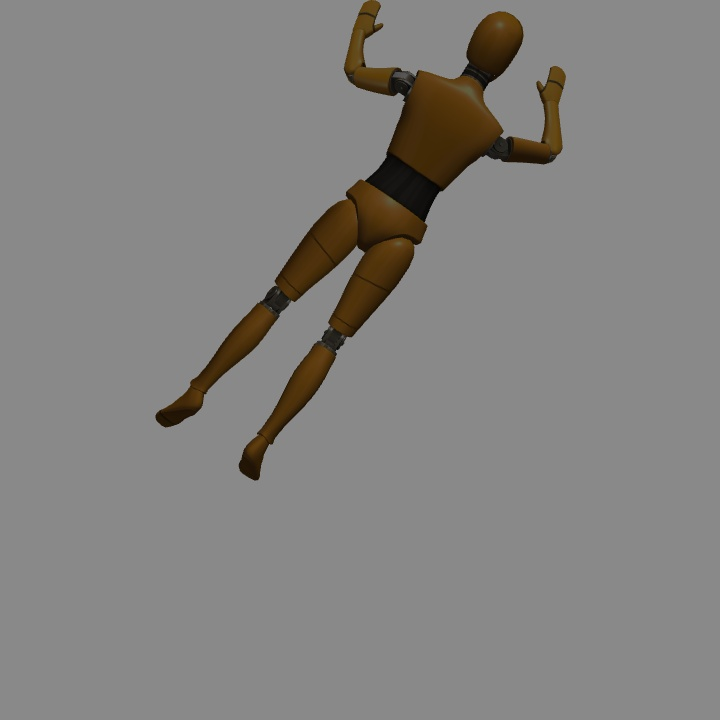victim: (159, 7, 567, 479)
